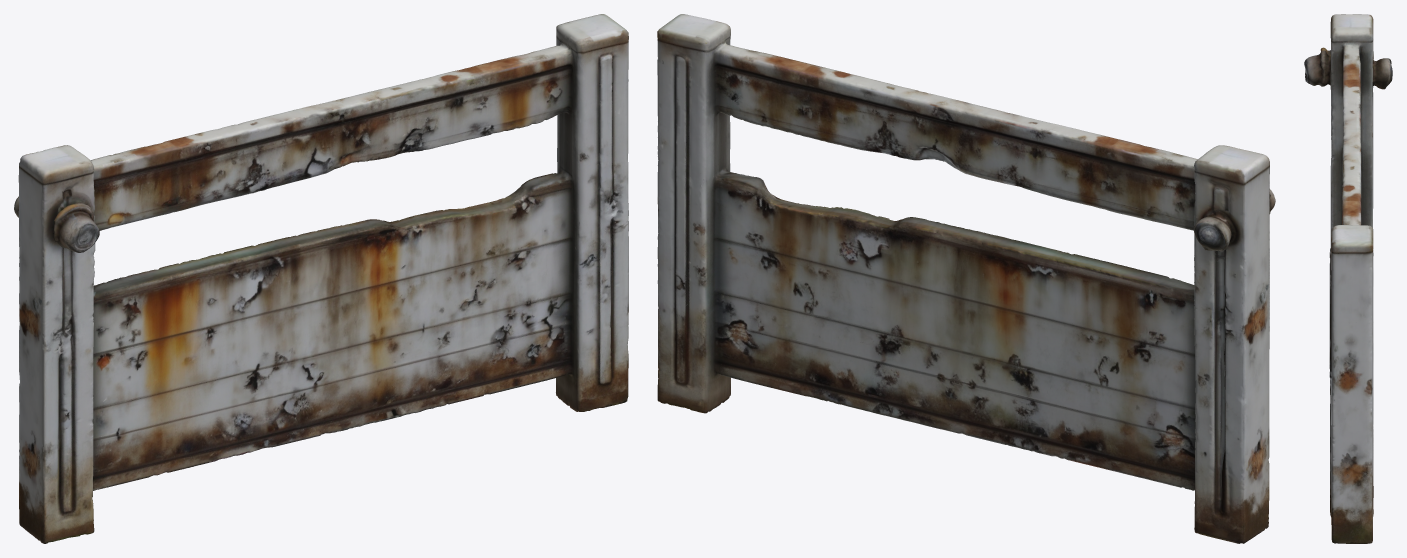
Rendered from Meshy_AI_Rusty_Gate_in_White_S_0505141718_texture.fbx.
The picture shows the model from 3 angles, left to right: view 1: azimuth 30°, elevation 25°; view 2: azimuth 150°, elevation 25°; view 3: azimuth 270°, elevation 25°; orthographic projection. The views are drawn at different scales.
Visible parts, largest first — view 1: Mesh_0; view 2: Mesh_0; view 3: Mesh_0.
Part boxes in pixels (x1,y1,x2,y2): Mesh_0: [14, 14, 628, 543]; Mesh_0: [657, 14, 1275, 543]; Mesh_0: [1304, 14, 1392, 543].
Bounding box in the file's own units: 200 × 121 × 32.36.
1 material, 1 textured.
